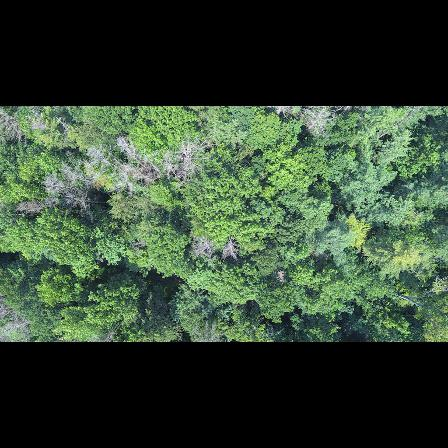Dead: (125, 138, 162, 178), (88, 150, 134, 180), (175, 137, 205, 180), (1, 109, 32, 149), (63, 192, 112, 217), (35, 178, 77, 200), (17, 193, 51, 219), (189, 236, 216, 261), (219, 238, 244, 264)
